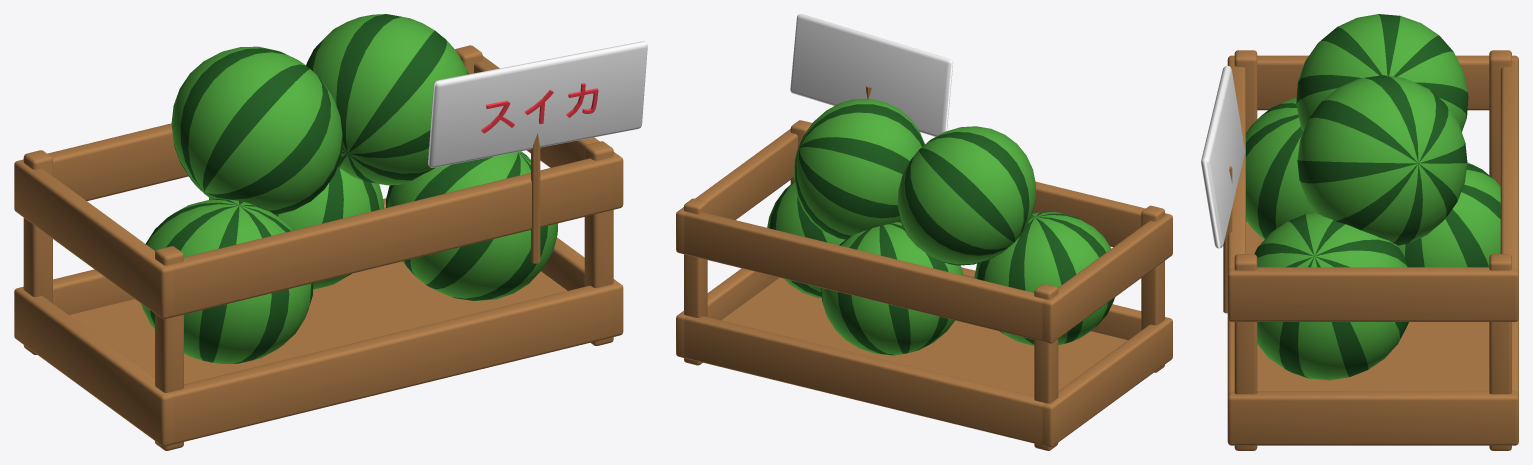
The model's file is watermelons.glb.
3 views of the same model, side by side, from view 1: azimuth 30°, elevation 25°; view 2: azimuth 150°, elevation 25°; view 3: azimuth 270°, elevation 25° (orthographic). The views are drawn at different scales.
Parts seen in each view (by area): view 1: watermelons_body; view 2: watermelons_body; view 3: watermelons_body.
Boxes of the visible parts, box(x1,y1,x2,y2) form: watermelons_body: box(14, 14, 647, 450); watermelons_body: box(676, 14, 1172, 450); watermelons_body: box(1201, 14, 1518, 450).
Bounding box in the file's own units: 1.17 × 0.7288 × 0.6987.
